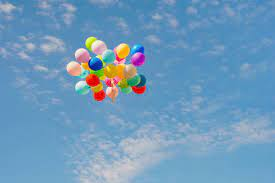Balloon: (75, 48, 90, 63), (67, 61, 81, 77), (75, 81, 89, 95), (116, 43, 129, 58), (92, 40, 105, 54), (102, 49, 115, 63), (131, 53, 145, 66), (89, 57, 102, 70), (86, 74, 100, 86), (124, 64, 136, 78), (104, 65, 116, 78), (94, 91, 105, 101)
